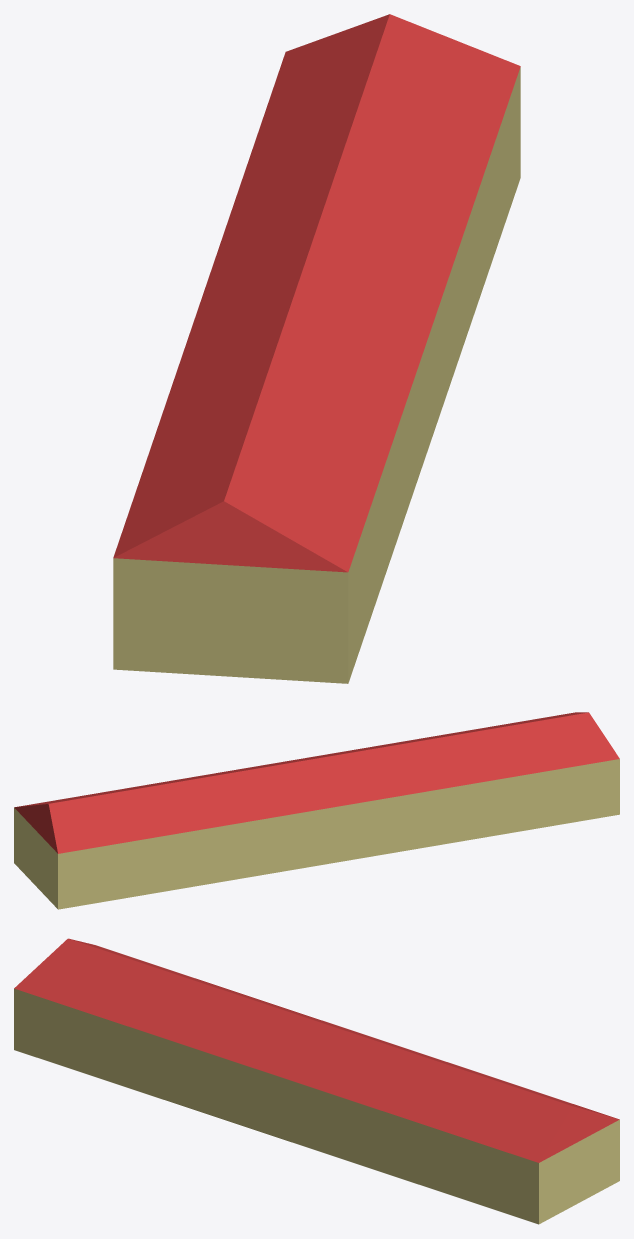
3 views of the same model, one above another, from view 1: azimuth 30°, elevation 25°; view 2: azimuth 150°, elevation 25°; view 3: azimuth 270°, elevation 25° (orthographic). The views are drawn at different scales.
Size of the model in its own units: 39.28 by 46.13 by 7.67.
